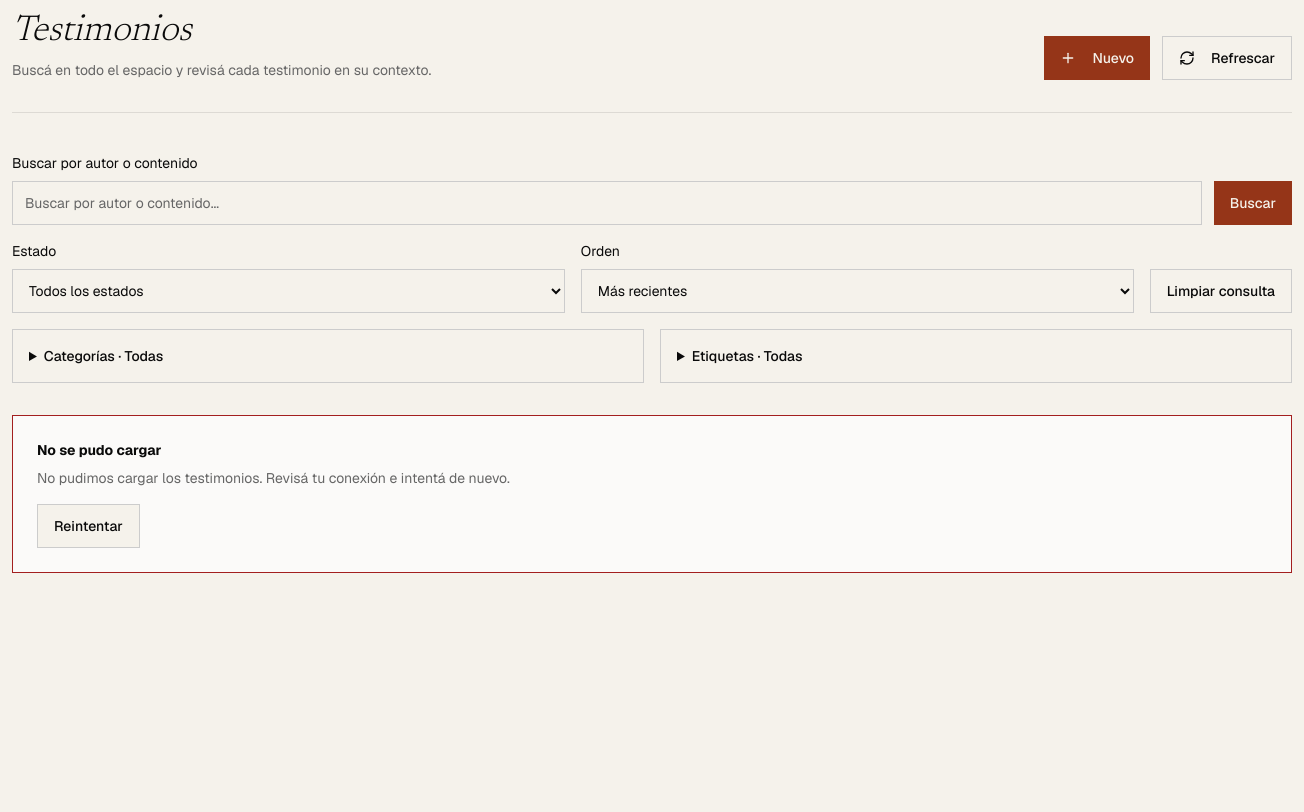
TestimonialsScreen › shows a recoverable load failure instead of an empty list
This screenshot has width=1304, height=812.
Expected: the message shows "No se pudo cargar", 37,441 -> 162,459
Click the button "Reintentar": (88, 526) 37,504 -> 140,548
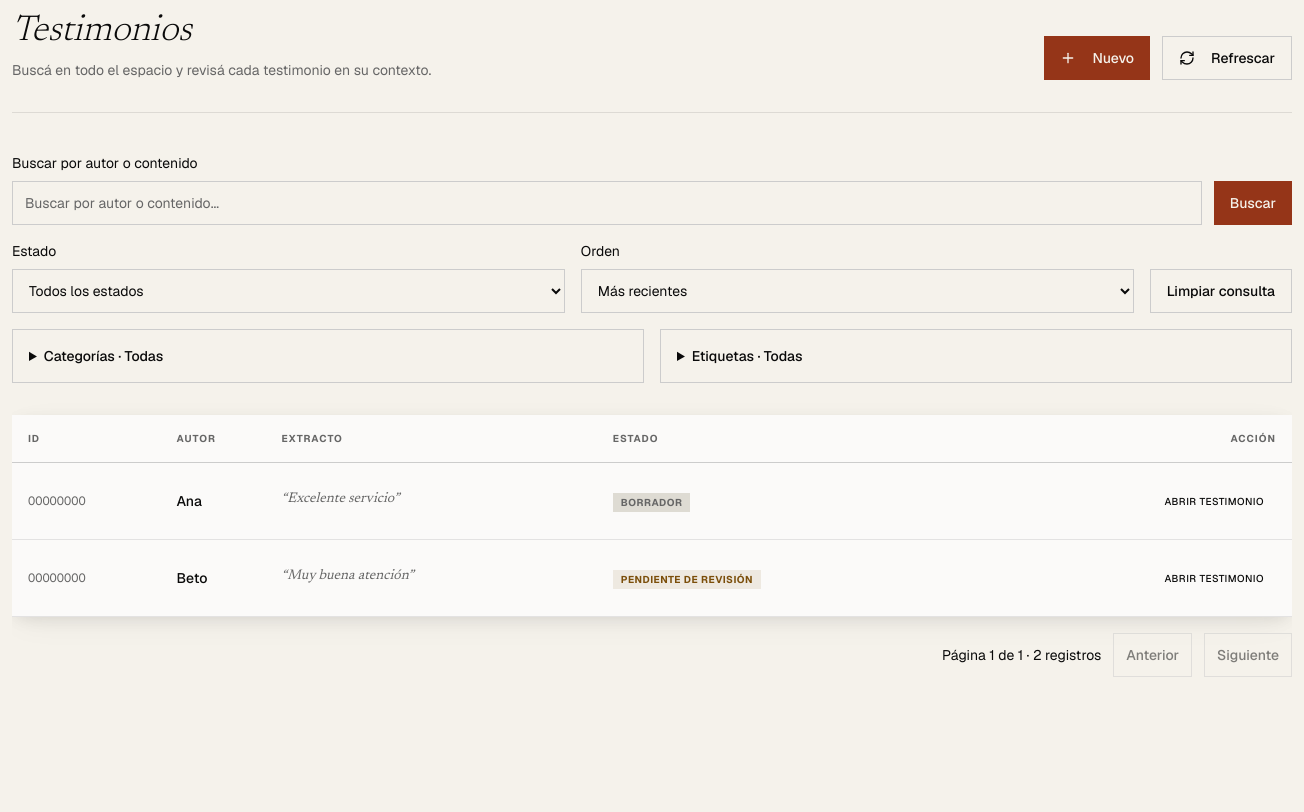
Result: the row "00000000 Ana “Excelente servicio” Borrador Abrir Testimonio" is shown at 12,463 -> 1292,540
